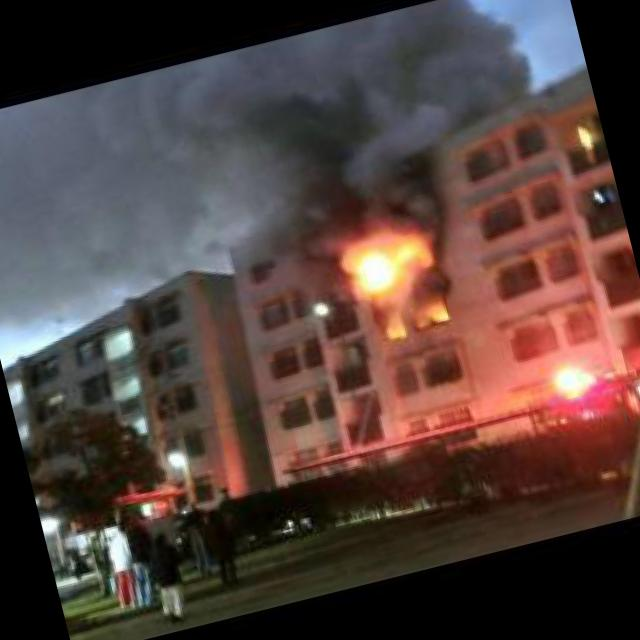fire: (341, 215, 473, 348)
smoke: (98, 0, 567, 287)
